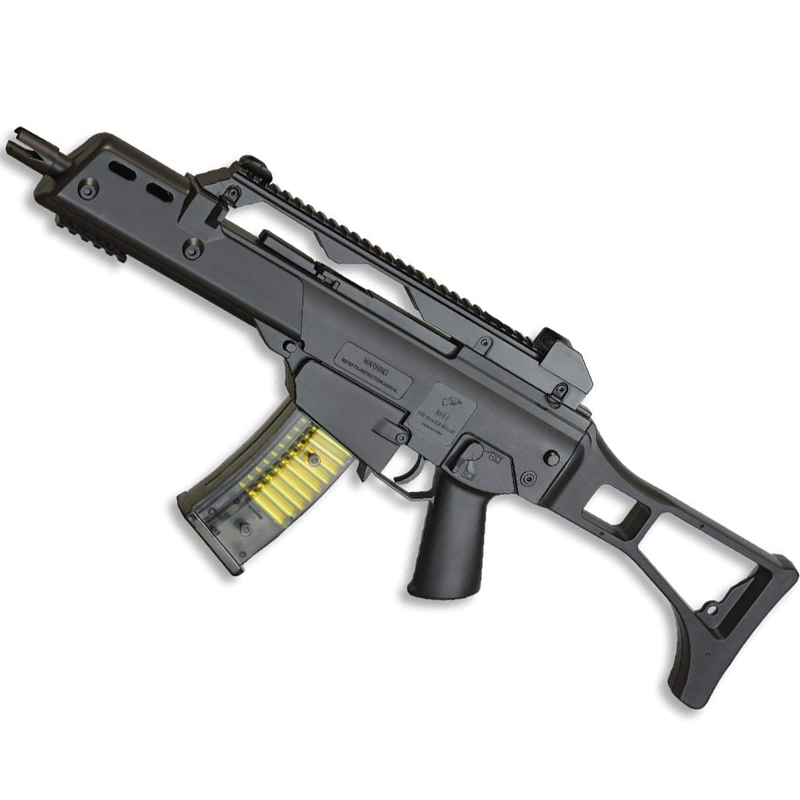weapon: (3, 90, 800, 715)
